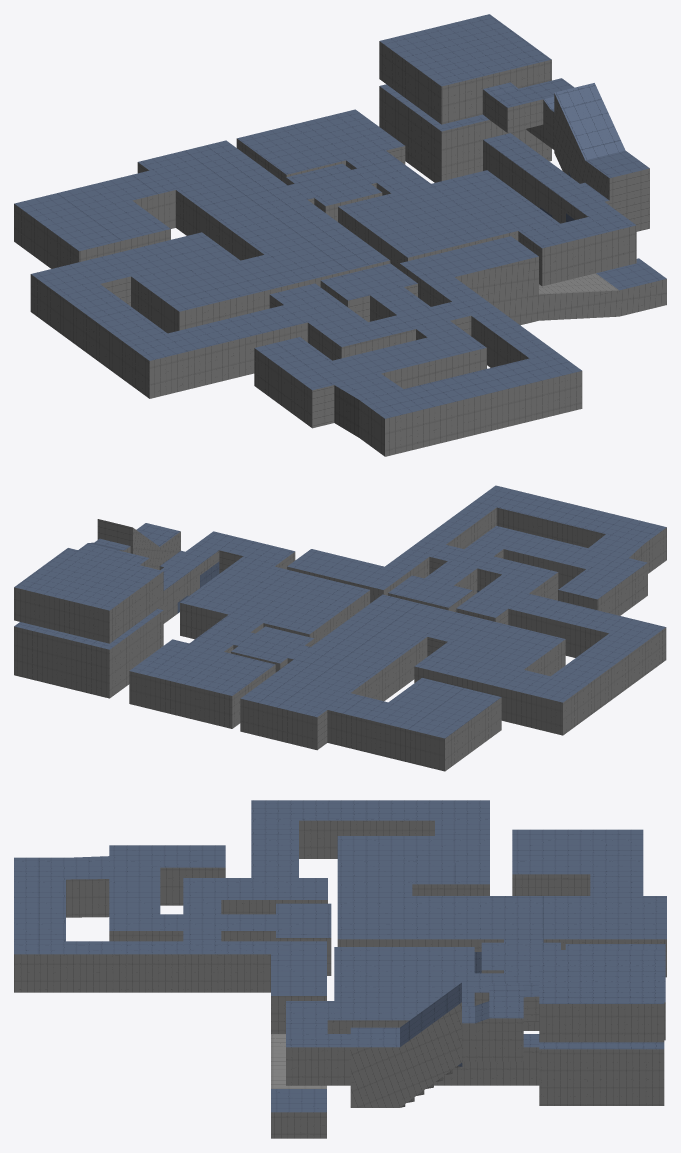
The model's file is level1_test.fbx.
3 views of the same model, one above another, from view 1: azimuth 30°, elevation 25°; view 2: azimuth 150°, elevation 25°; view 3: azimuth 270°, elevation 25° (orthographic). The views are drawn at different scales.
Parts seen in each view (by area): view 1: Cube; view 2: Cube; view 3: Cube.
Part boxes in pixels (left/top/right/bottom): Cube: left=14, top=14, right=666, bottom=456; Cube: left=14, top=485, right=666, bottom=771; Cube: left=14, top=800, right=666, bottom=1138.
Size of the model in its own units: 5599 by 1431 by 5734.
